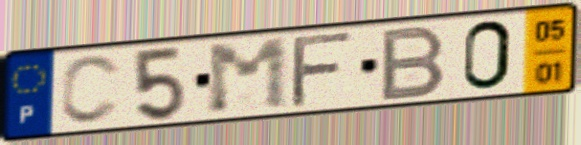0: (460, 18, 514, 94)
5: (128, 42, 190, 124)
B: (376, 22, 449, 104)
C: (56, 52, 125, 127)
F: (287, 28, 360, 111)
M: (203, 35, 292, 118)
